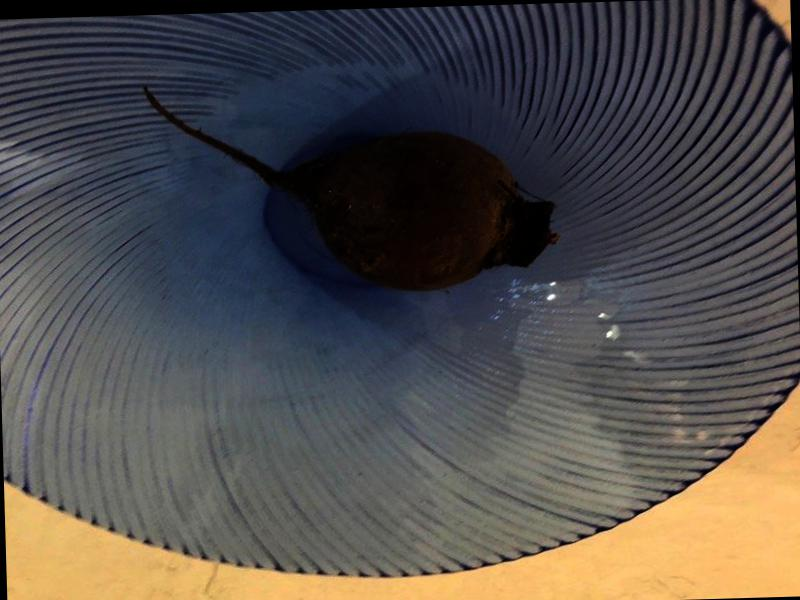Beet: (144, 76, 556, 295)
